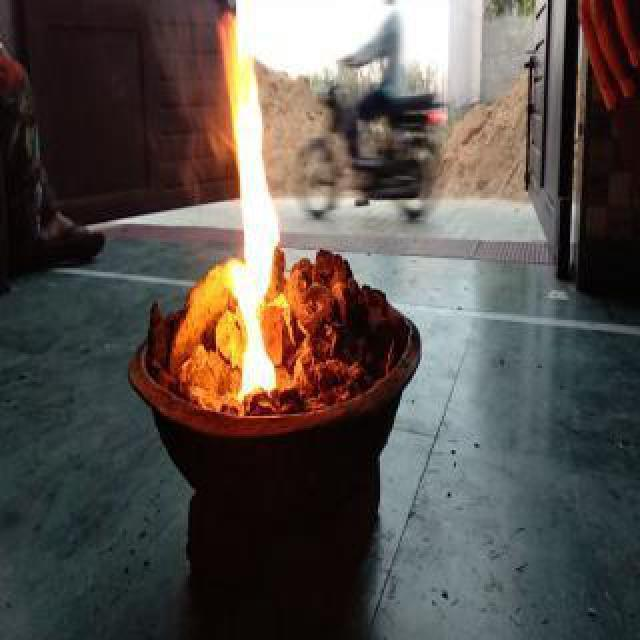Fire: (220, 4, 282, 402)
Smoke: (136, 2, 228, 222)
